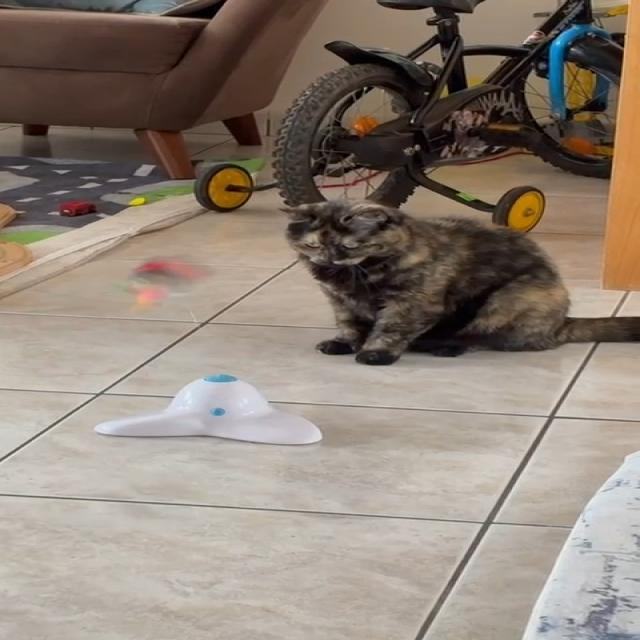authorized: (277, 197, 639, 365)
